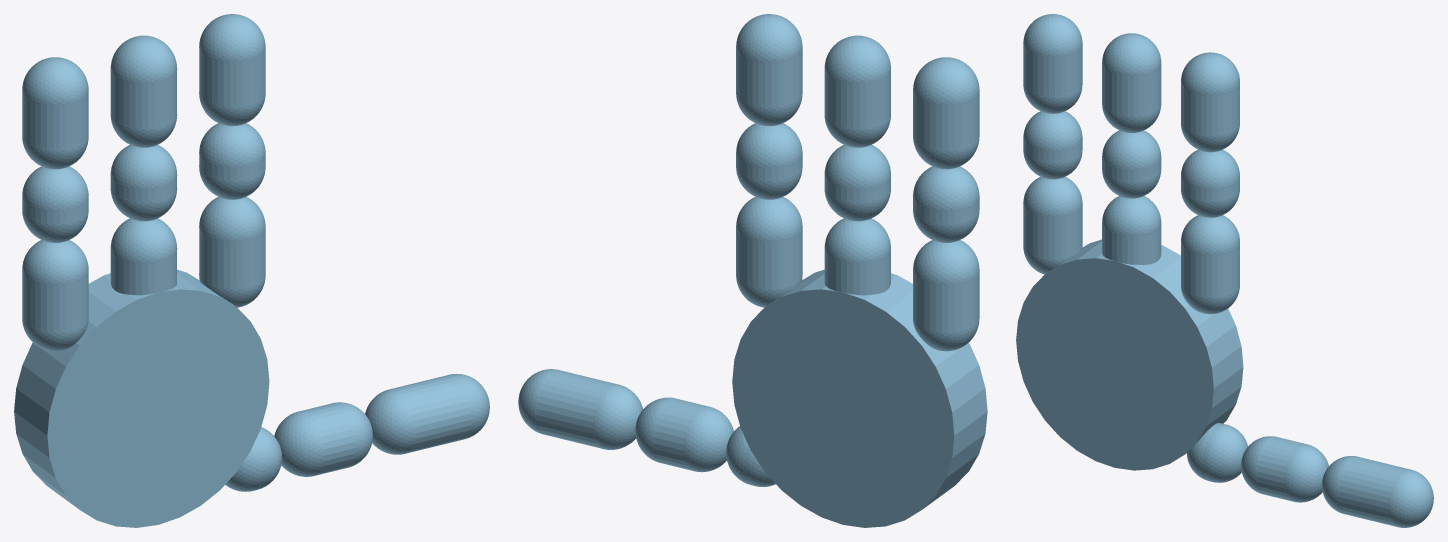
The model's file is leap_hand_right_canonical.glb.
3 views of the same model, side by side, from view 1: azimuth 30°, elevation 25°; view 2: azimuth 150°, elevation 25°; view 3: azimuth 330°, elevation 25° (orthographic). The views are drawn at different scales.
Visible parts, largest first — view 1: world; view 2: world; view 3: world.
Part boxes in pixels (x1=…): world: x1=14, y1=14, x2=489, y2=527; world: x1=518, y1=14, x2=987, y2=527; world: x1=1016, y1=14, x2=1433, y2=527.
Size of the model in its own units: 0.2338 by 0.2322 by 0.0325.
